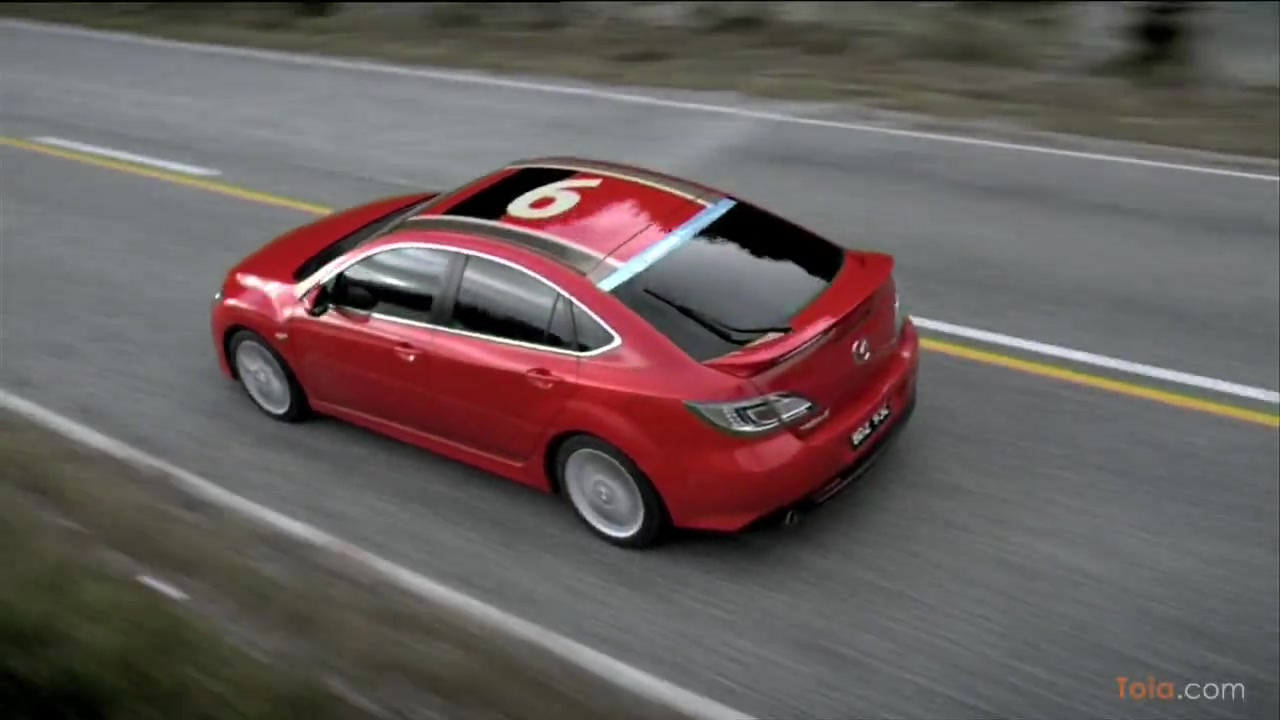car: (209, 154, 927, 559)
